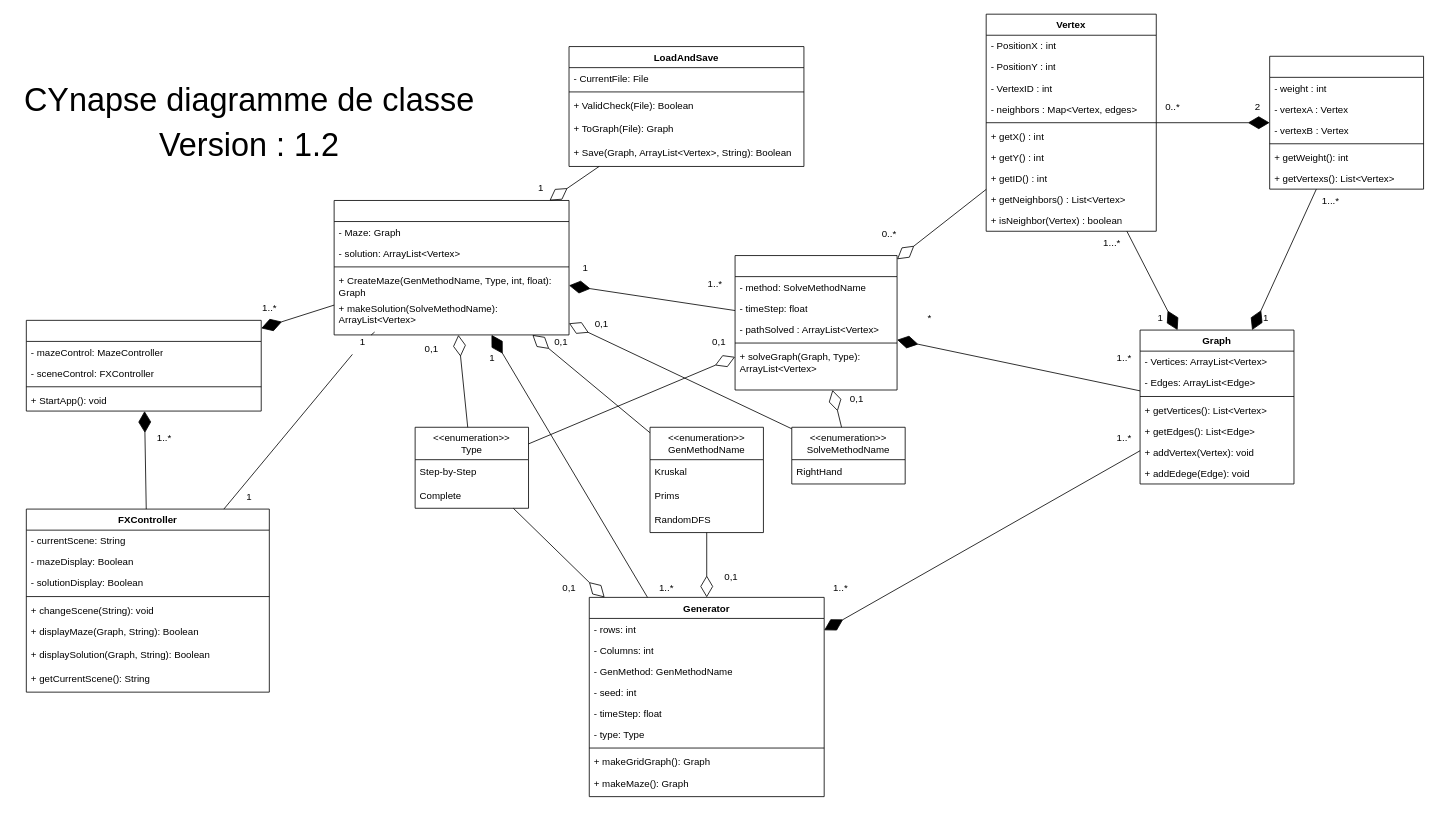
This 1438x813 diagram has some shape labels left out. The shapes that lost their labels are listed below. From the top down, each one's box as (x1, y1, x2, y2) in pixels, then its label:
(1269, 55, 1424, 189): Edge
(333, 200, 569, 335): MazeController
(734, 255, 897, 390): Solver
(26, 320, 261, 411): Main
